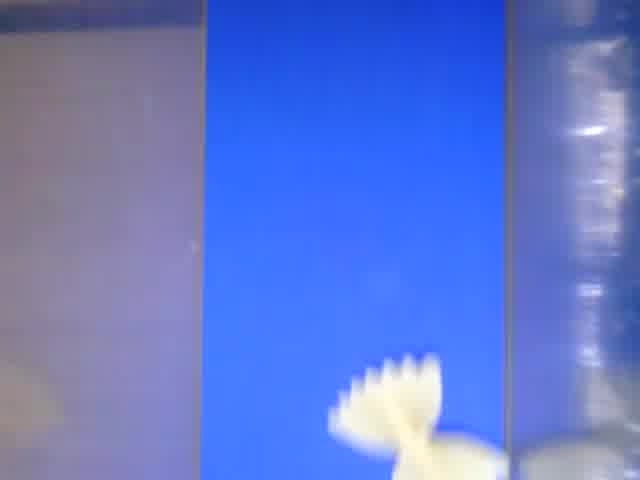farfalle: (326, 353, 509, 480)
